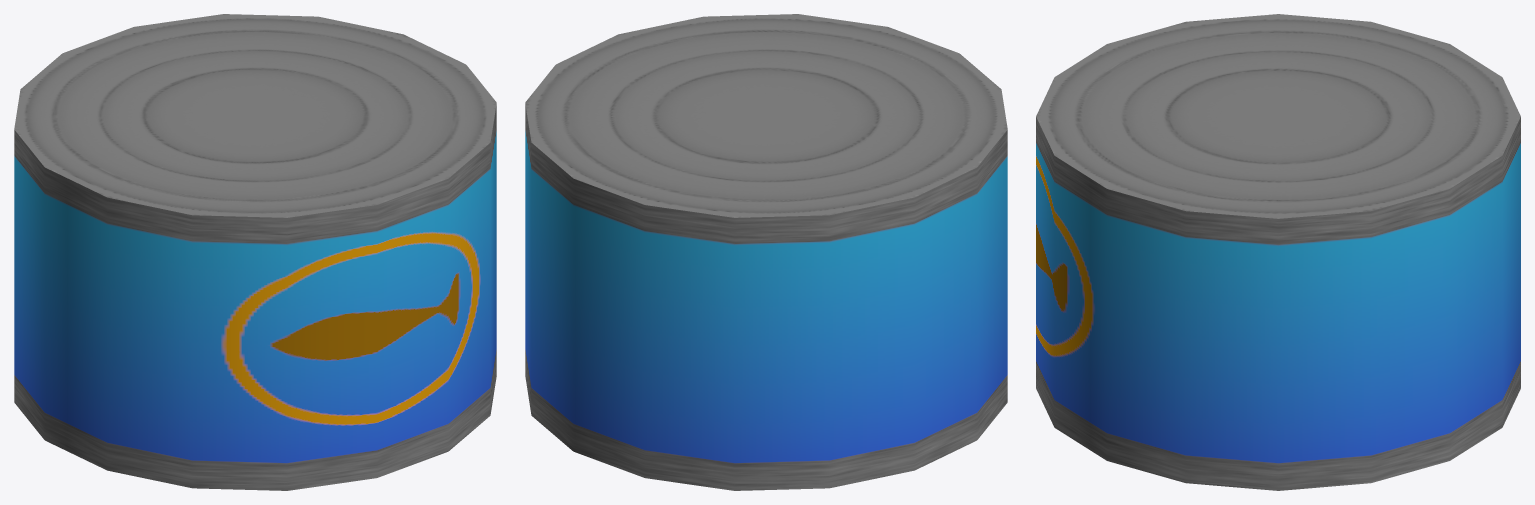
Rendered from tincanfish2.glb.
3 views of the same model, side by side, from view 1: azimuth 30°, elevation 25°; view 2: azimuth 150°, elevation 25°; view 3: azimuth 270°, elevation 25° (orthographic).
Parts seen in each view (by area): view 1: tincanfish2; view 2: tincanfish2; view 3: tincanfish2.
Boxes of the visible parts, x1=… form: tincanfish2: x1=14, y1=14, x2=496, y2=490; tincanfish2: x1=525, y1=14, x2=1007, y2=490; tincanfish2: x1=1036, y1=14, x2=1520, y2=490.
Bounding box in the file's own units: 0.6386 × 0.3954 × 0.6386.
1 material, 1 textured.
